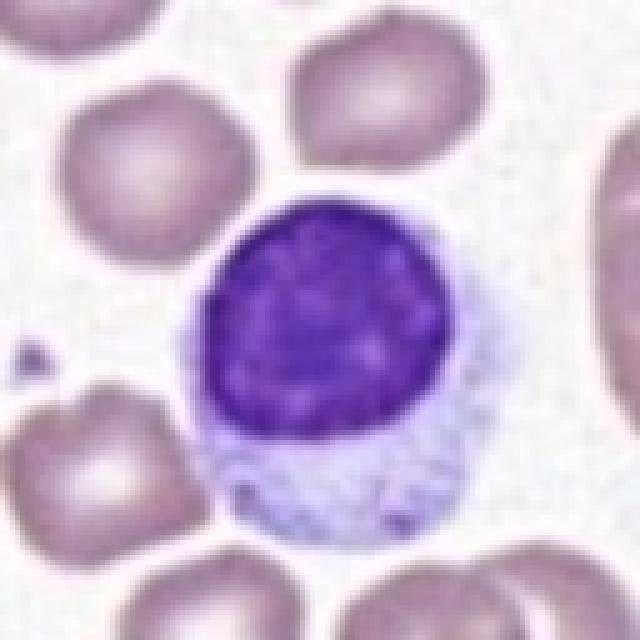lympho: (168, 185, 528, 555)
